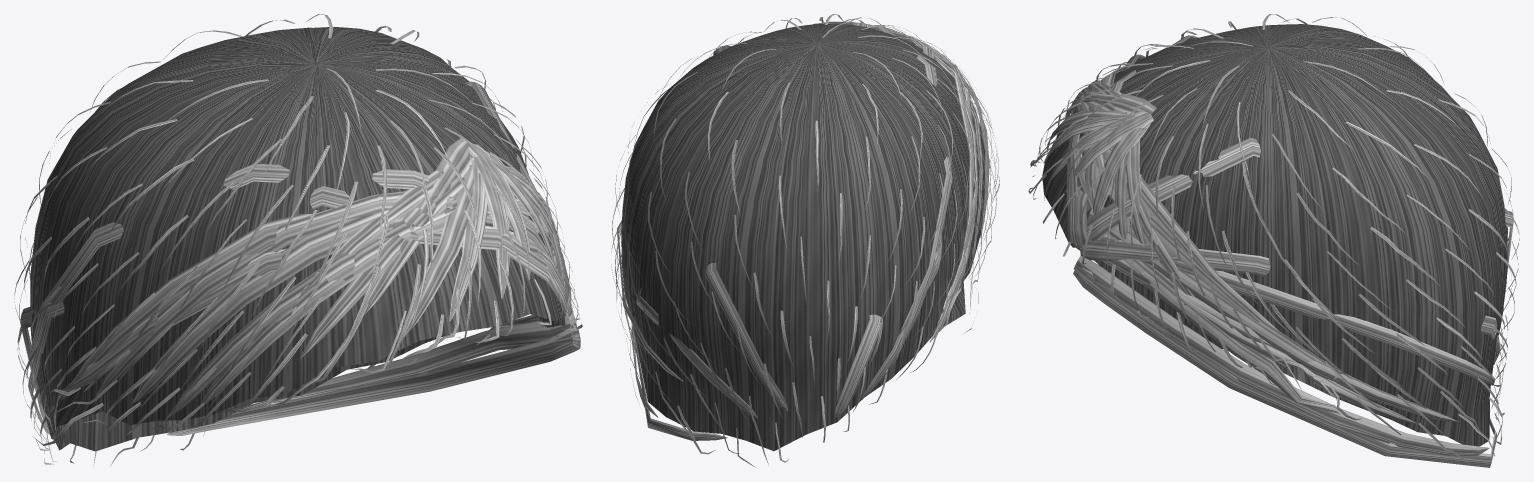
File: unified_m_crop.glb
The picture shows the model from 3 angles, left to right: view 1: azimuth 30°, elevation 25°; view 2: azimuth 150°, elevation 25°; view 3: azimuth 270°, elevation 25°; orthographic projection. The views are drawn at different scales.
Parts seen in each view (by area): view 1: Hair_scalp, Hair_directional_locks, Hair_layered_strands; view 2: Hair_scalp, Hair_layered_strands, Hair_directional_locks; view 3: Hair_scalp, Hair_directional_locks, Hair_layered_strands.
Boxes of the visible parts, <box> form: Hair_scalp: <box>30,26,565,451</box>; Hair_directional_locks: <box>20,81,580,439</box>; Hair_layered_strands: <box>14,14,582,467</box>; Hair_scalp: <box>621,23,984,451</box>; Hair_layered_strands: <box>611,14,999,467</box>; Hair_directional_locks: <box>617,21,989,440</box>; Hair_scalp: <box>1042,24,1507,446</box>; Hair_directional_locks: <box>1043,35,1513,467</box>; Hair_layered_strands: <box>1028,14,1519,464</box>.
Bounding box in the file's own units: 0.1016 × 0.0986 × 0.1109.
Materials: 2 (2 with a texture image).
